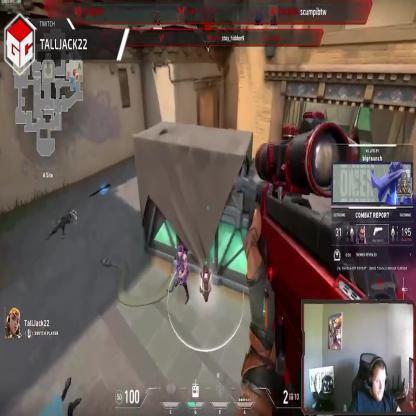enemy: (174, 244, 190, 306)
enemy_head: (178, 245, 182, 256)
